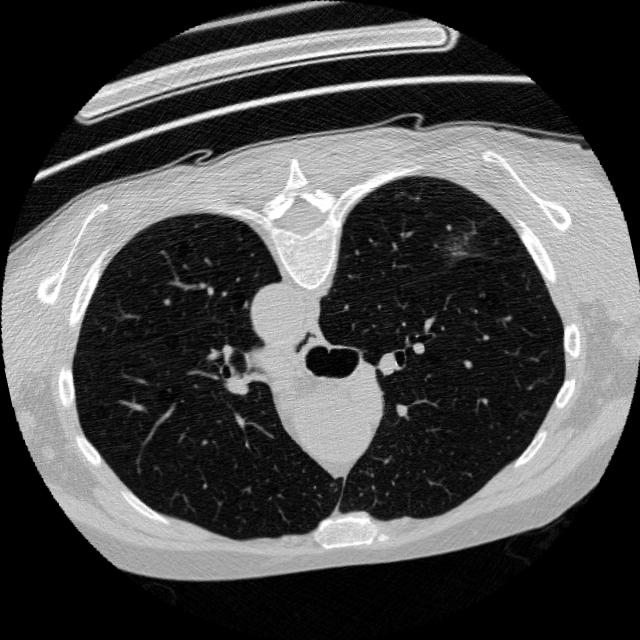nodule: (426, 214, 492, 280)
